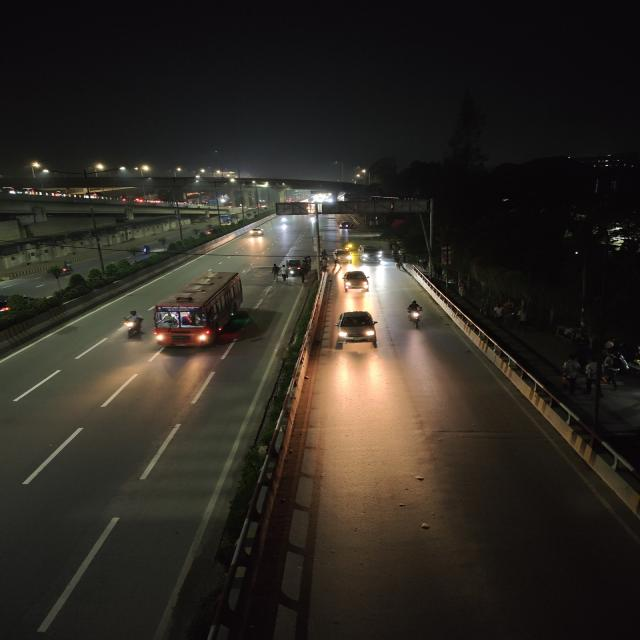bus: (150, 270, 247, 352)
car: (331, 308, 381, 350), (342, 268, 372, 294), (359, 243, 384, 265), (332, 248, 354, 264)
cng: (286, 258, 303, 276), (248, 227, 266, 240)
motorcycle: (115, 307, 146, 343), (403, 298, 428, 331), (140, 242, 152, 255)
pedestrian: (270, 262, 288, 284)
